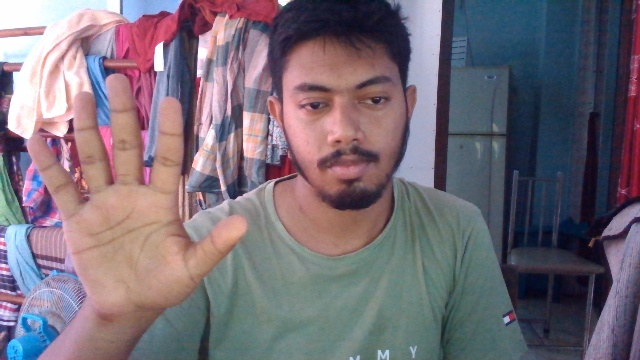hello: (17, 72, 252, 315)
